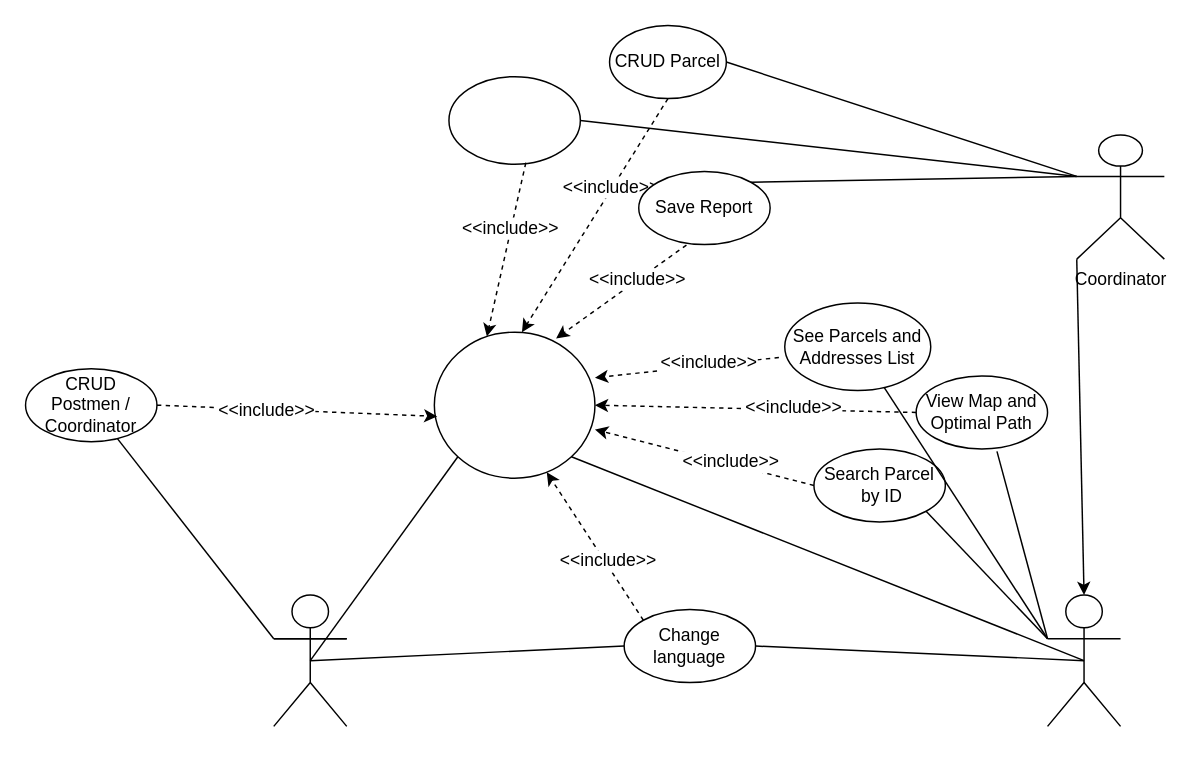
This 1191x783 diagram has some shape labels left out. The shapes that lost their labels are listed below. From the top down, each one's centre as x and y in pixels, then its label:
At [513,119]: "View Postmen Names and ID".
At [514,404]: "Login".
At [309,659]: "Administrator".
At [1083,659]: "Postman".
